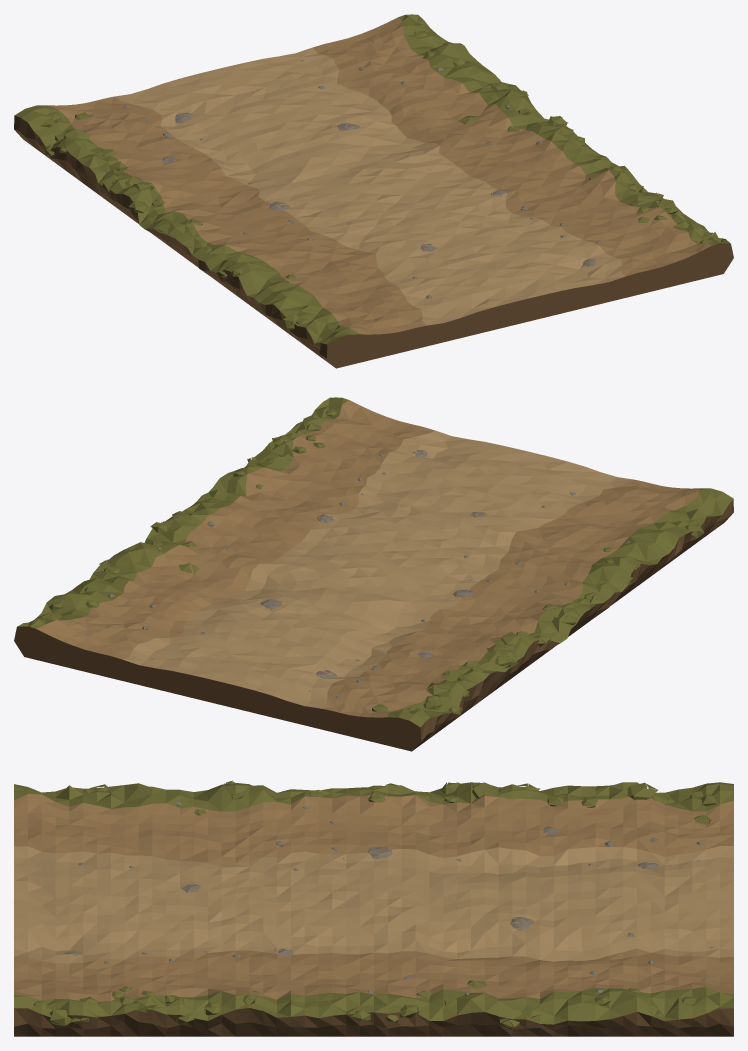
The model's file is ironwood_forest_path_module.glb.
3 views of the same model, one above another, from view 1: azimuth 30°, elevation 25°; view 2: azimuth 150°, elevation 25°; view 3: azimuth 270°, elevation 25° (orthographic). The views are drawn at different scales.
Visible parts, largest first — view 1: path_worn_center, path_dirt_right, path_dirt_left, path_moss_shoulder_left, path_cap_end, path_moss_shoulder_right, path_side_left, moss_clumps, stones_embedded; view 2: path_worn_center, path_dirt_right, path_dirt_left, path_cap_start, path_moss_shoulder_left, path_moss_shoulder_right, moss_clumps, path_side_left, stones_embedded; view 3: path_worn_center, path_dirt_left, path_dirt_right, path_side_right, path_moss_shoulder_right, path_moss_shoulder_left, moss_clumps, stones_embedded.
Boxes of the visible parts, x1,y1,x2,y2 form: path_worn_center: (114,48,624,325); path_dirt_right: (312,17,710,276); path_dirt_left: (48,96,426,334); path_moss_shoulder_left: (14,105,359,344); path_cap_end: (327,243,733,368); path_moss_shoulder_right: (399,14,730,245); path_side_left: (14,115,335,367); moss_clumps: (40,30,718,329); stones_embedded: (123,35,600,298); path_worn_center: (123,430,633,708); path_dirt_right: (37,400,435,659); path_dirt_left: (321,479,699,717); path_cap_start: (14,626,420,751); path_moss_shoulder_left: (387,488,733,727); path_moss_shoulder_right: (18,397,348,628); moss_clumps: (43,409,703,714); path_side_left: (412,499,733,750); stones_embedded: (65,450,629,698); path_worn_center: (14,846,733,963); path_dirt_left: (14,794,733,864); path_dirt_right: (14,948,733,1001); path_side_right: (14,1008,733,1036); path_moss_shoulder_right: (14,987,733,1024); path_moss_shoulder_left: (14,782,733,811); moss_clumps: (33,780,717,1027); stones_embedded: (64,801,713,995).
Size of the model in its own units: 6.28 by 0.5017 by 8.
